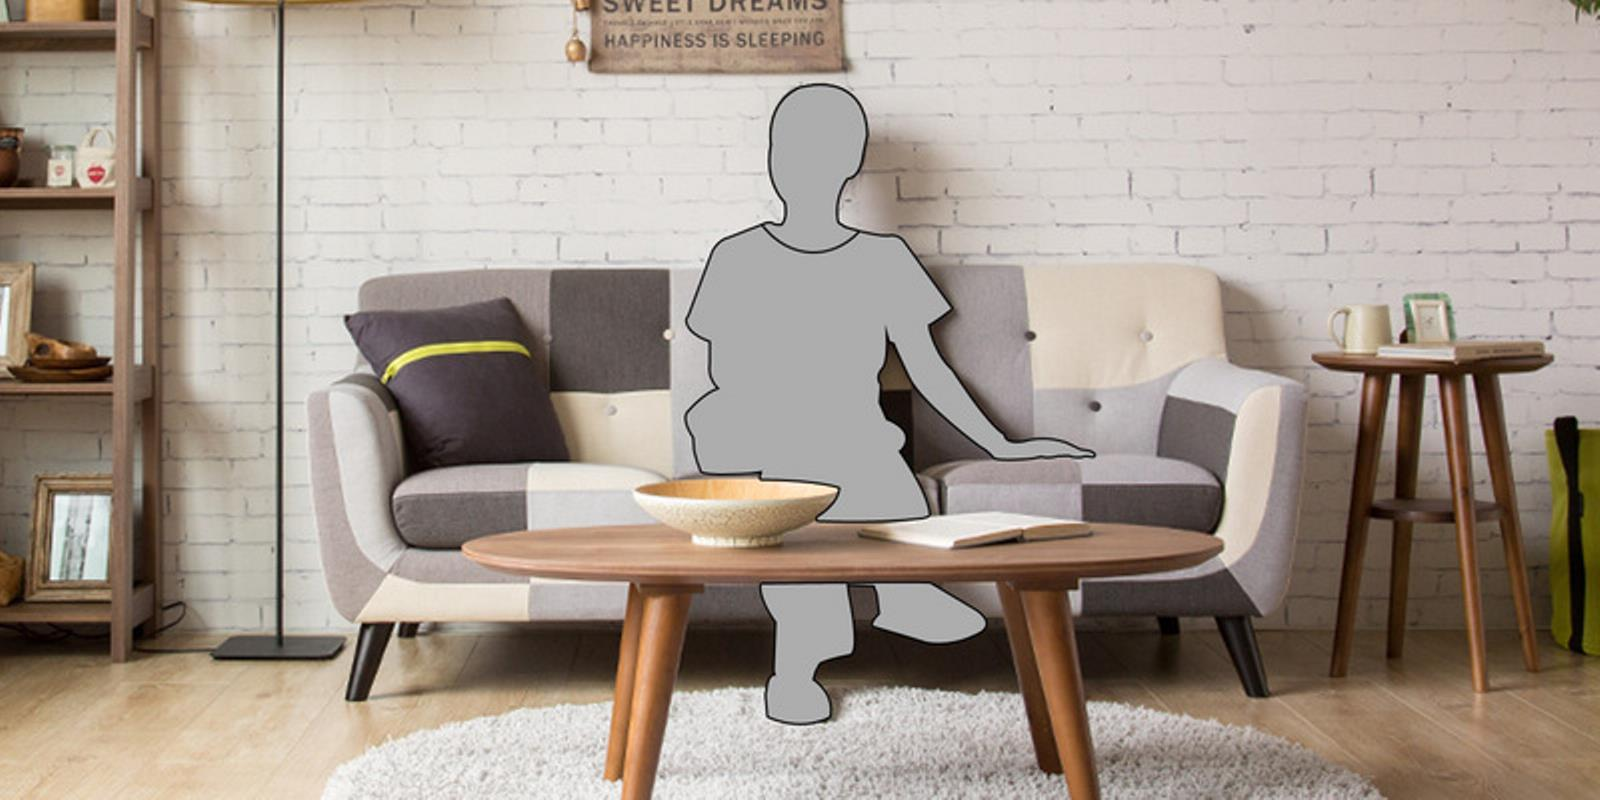Frida Three Seater Sofa in Grey Multi Colour by CasaCraft: (310, 258, 1368, 713)
